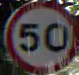Speed limit: (3, 0, 78, 72)
